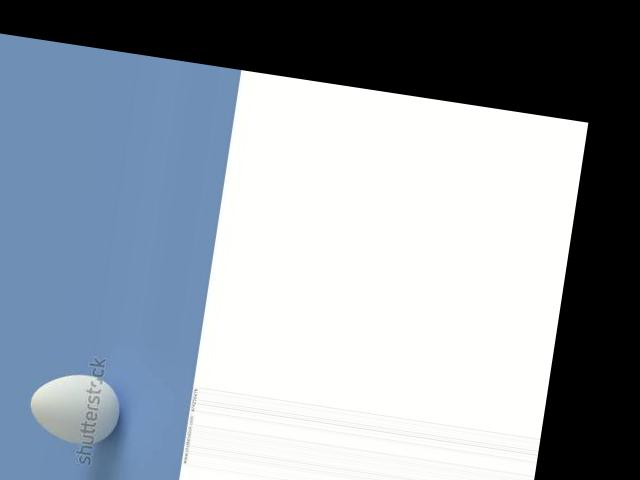egg: (26, 367, 125, 448)
